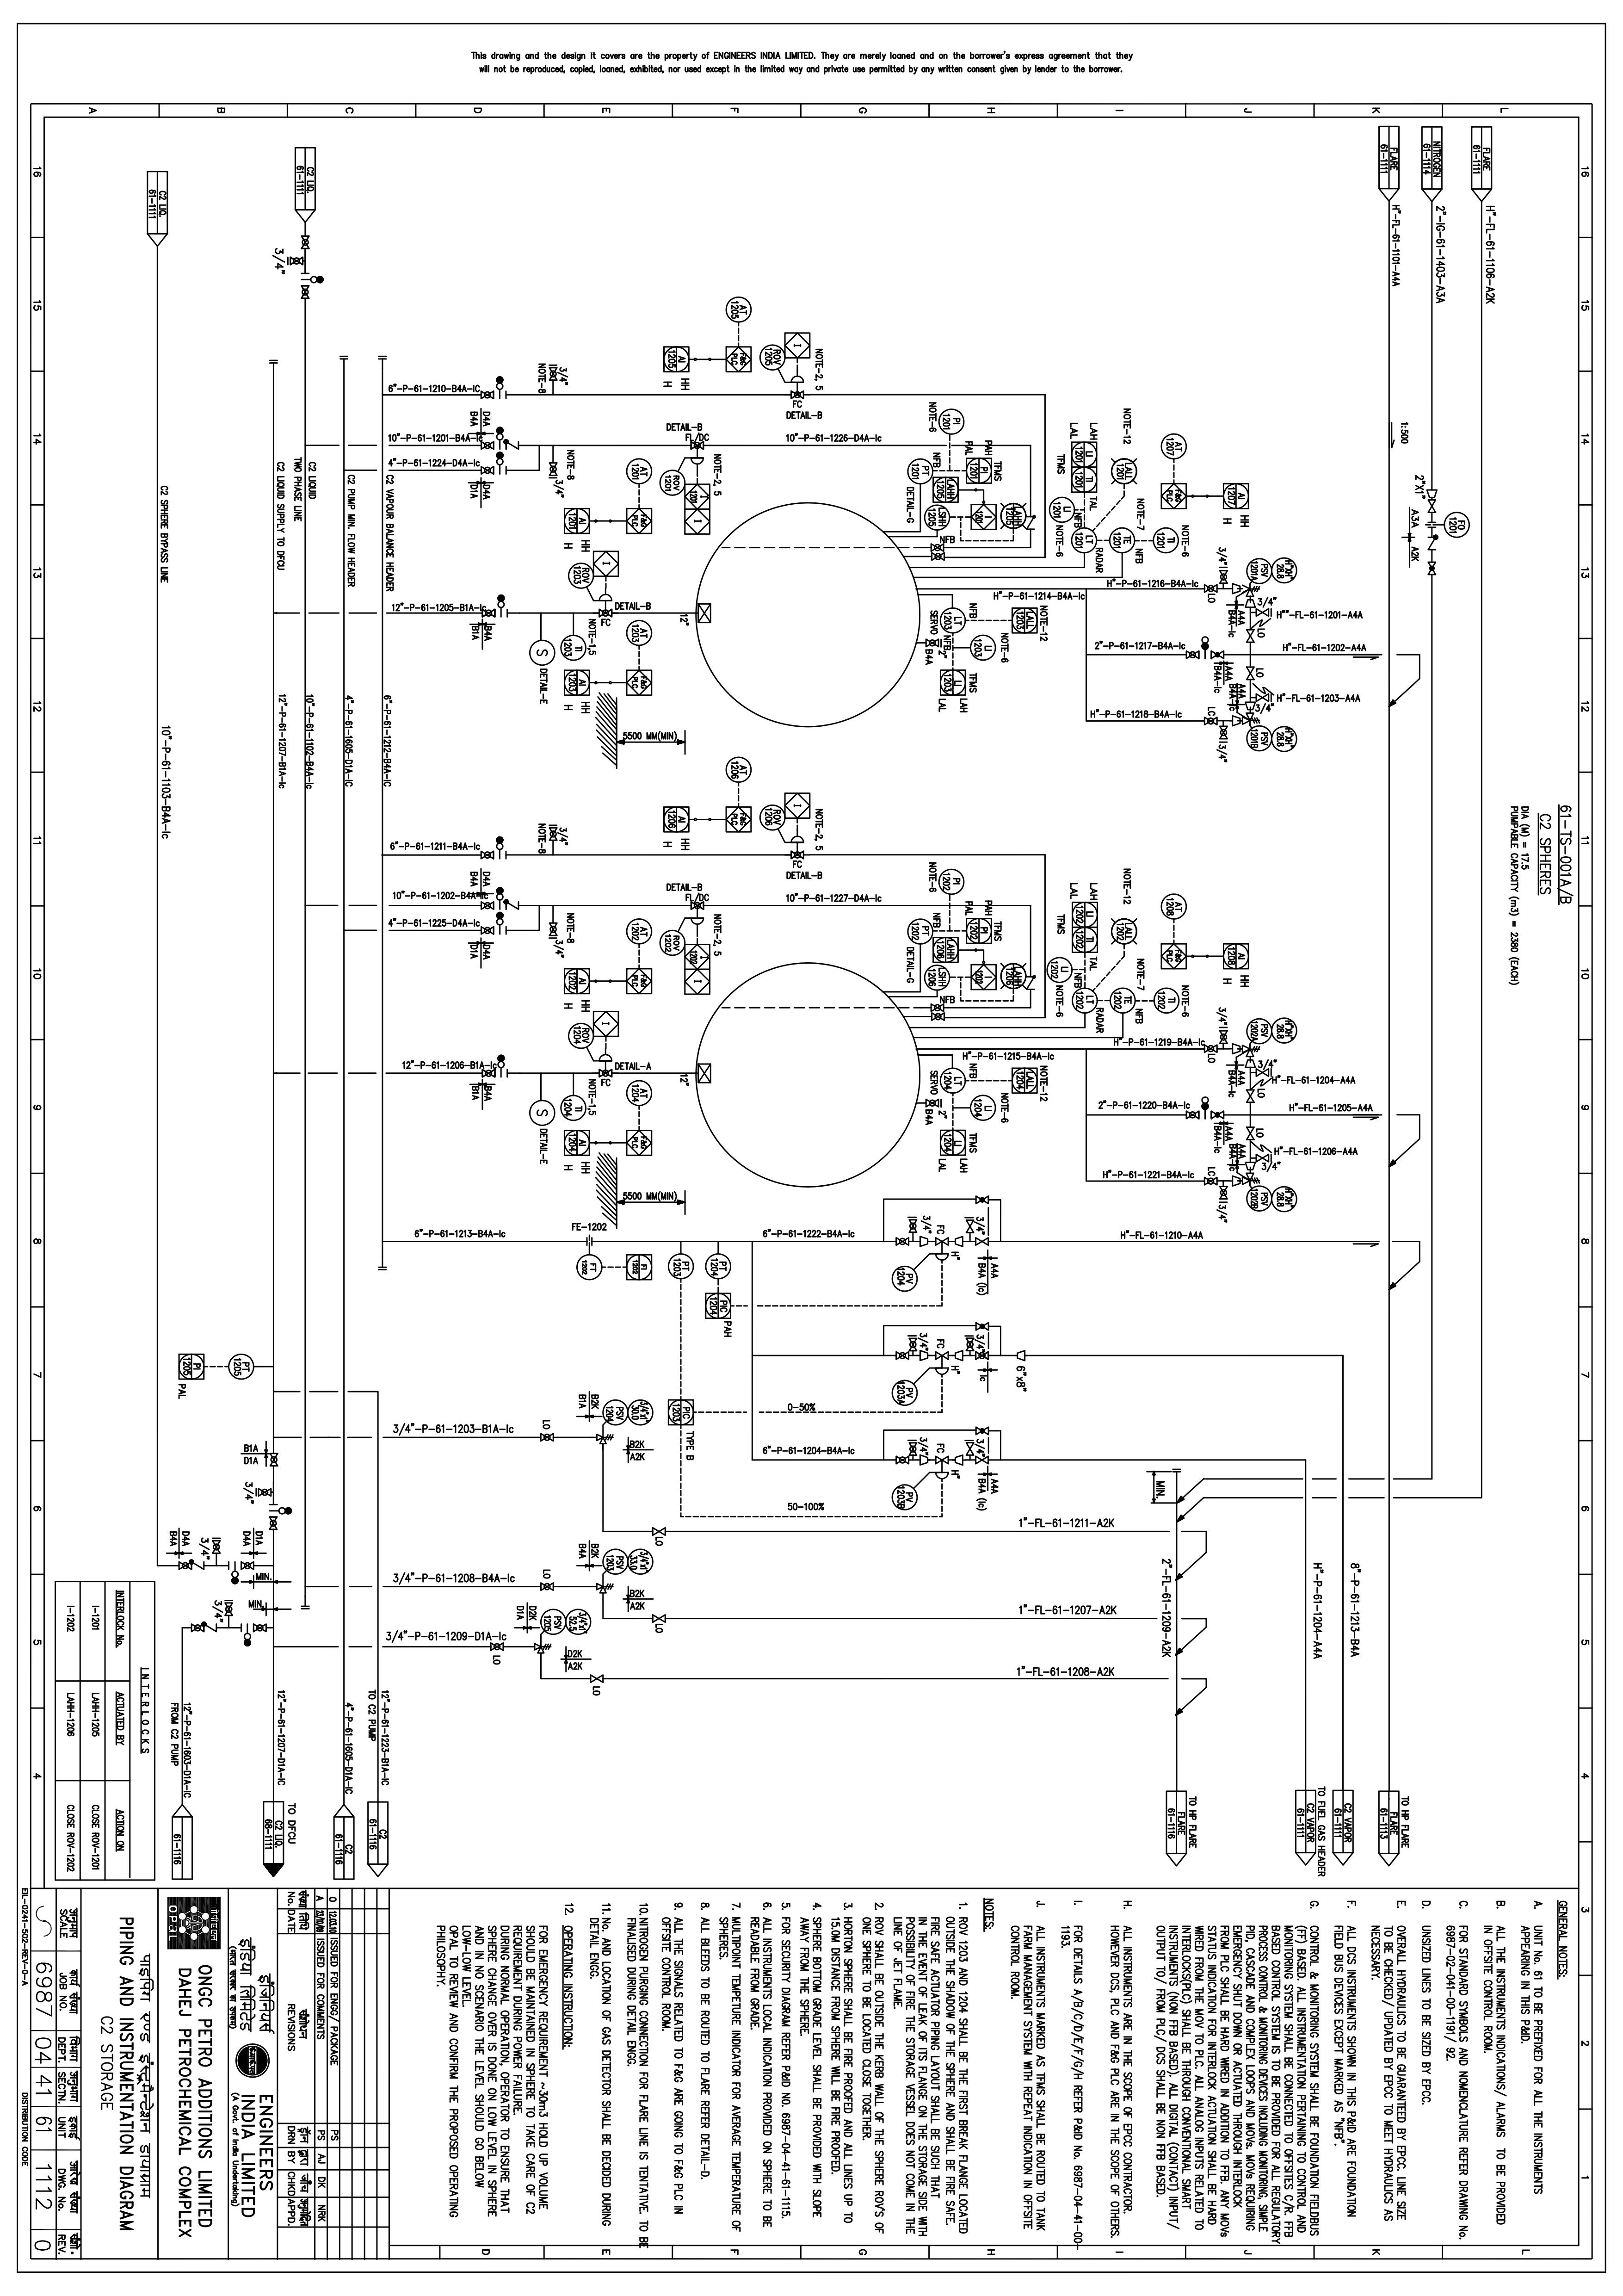ball valve: (1423, 483, 1444, 518), (290, 283, 321, 304), (529, 1643, 557, 1662), (1419, 559, 1440, 581), (172, 1560, 211, 1572), (186, 1621, 223, 1634), (297, 232, 318, 253), (281, 255, 309, 271), (592, 1581, 620, 1597), (1235, 1170, 1263, 1186), (545, 357, 560, 383), (889, 1233, 915, 1249), (973, 1189, 994, 1207), (1175, 648, 1205, 661), (966, 1455, 996, 1467), (221, 1597, 237, 1620), (639, 1527, 673, 1537), (641, 1613, 674, 1623), (1196, 583, 1224, 596), (968, 1423, 992, 1437), (211, 1534, 225, 1558), (901, 1437, 919, 1456), (255, 1483, 274, 1500), (239, 1556, 260, 1572), (265, 1514, 281, 1535), (1217, 1186, 1233, 1207), (546, 919, 560, 942), (1212, 1031, 1235, 1045), (920, 1096, 943, 1110), (530, 1581, 560, 1592), (543, 826, 560, 843), (478, 464, 502, 476), (594, 1432, 618, 1444), (476, 386, 497, 401), (1217, 566, 1231, 587), (595, 1065, 617, 1079), (931, 1347, 952, 1361), (1214, 726, 1231, 741), (532, 1433, 559, 1444), (903, 1333, 919, 1351), (968, 1353, 994, 1363), (1182, 1110, 1201, 1124), (964, 1216, 978, 1235), (892, 1349, 912, 1363), (892, 1455, 912, 1469), (963, 1440, 977, 1460), (592, 608, 617, 618), (1198, 1043, 1223, 1054), (1242, 666, 1258, 682), (1244, 1089, 1258, 1107), (1244, 1128, 1258, 1145), (685, 441, 708, 451), (1245, 624, 1256, 646), (787, 850, 810, 861), (1208, 1110, 1231, 1121), (1256, 1068, 1279, 1079), (964, 1330, 975, 1353), (478, 1068, 497, 1080), (933, 1235, 952, 1247), (971, 1321, 991, 1333), (906, 1216, 919, 1235), (251, 1621, 270, 1634), (1201, 1175, 1221, 1188), (476, 610, 502, 618), (478, 441, 499, 451), (474, 850, 495, 861), (1251, 694, 1272, 704), (687, 901, 708, 912), (269, 1453, 283, 1469), (785, 390, 810, 399), (478, 924, 495, 936), (970, 1237, 994, 1245), (485, 1643, 509, 1651), (927, 1001, 947, 1012), (587, 1672, 606, 1683), (1252, 610, 1275, 618), (926, 1014, 949, 1022), (1201, 715, 1219, 726), (480, 901, 497, 912), (1254, 1154, 1273, 1163), (931, 1458, 952, 1465)
